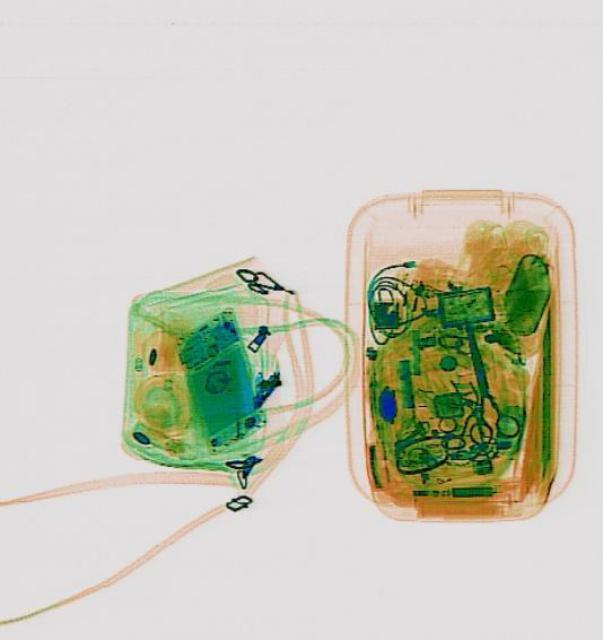Scissors: (441, 310, 522, 448)
